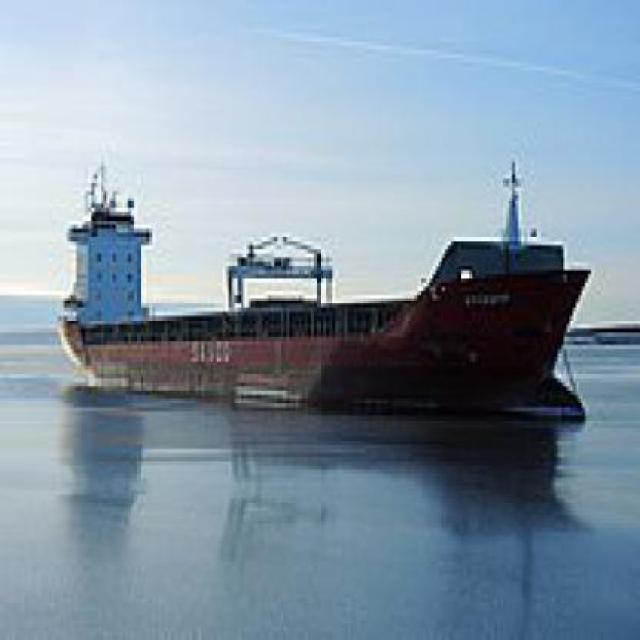container: (53, 134, 599, 451)
